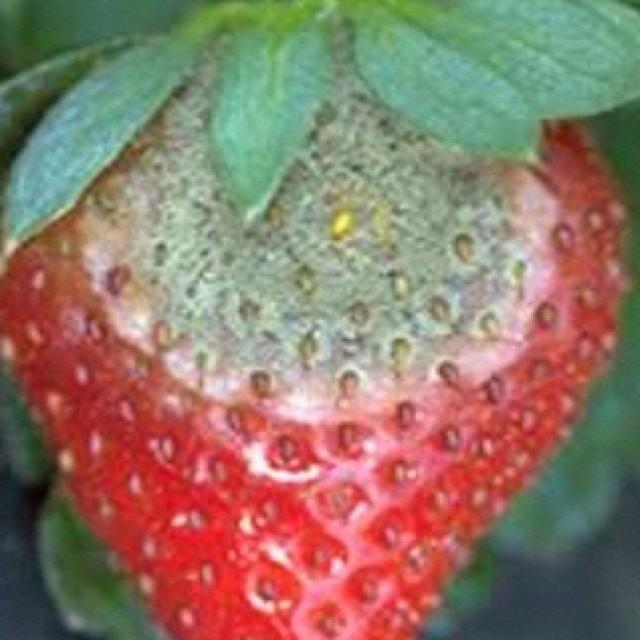Gray Mold: (57, 6, 574, 435)
